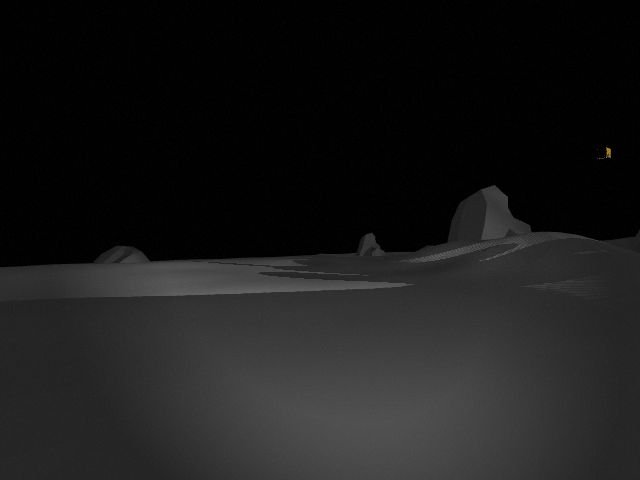cubesat: (594, 145, 614, 163)
